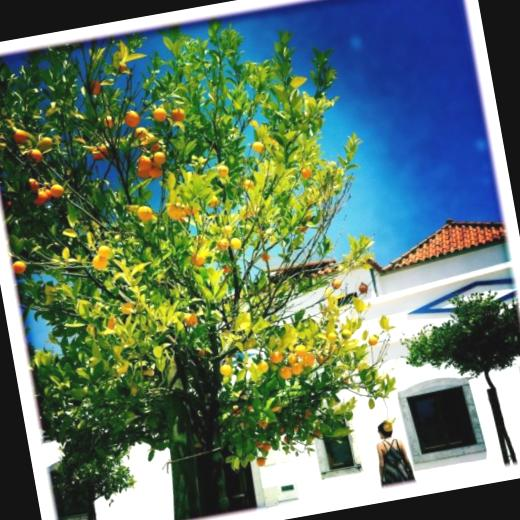Grape: (166, 194, 198, 230), (132, 154, 151, 182), (118, 106, 142, 128), (42, 178, 66, 198), (210, 160, 232, 180), (134, 207, 157, 226), (239, 170, 260, 190), (168, 102, 186, 124), (146, 152, 166, 170), (150, 106, 167, 127), (12, 258, 29, 276), (28, 175, 48, 190), (300, 351, 317, 368), (150, 167, 166, 184), (252, 140, 268, 156), (38, 186, 49, 207), (29, 145, 42, 162), (10, 127, 24, 142), (40, 136, 48, 146)
